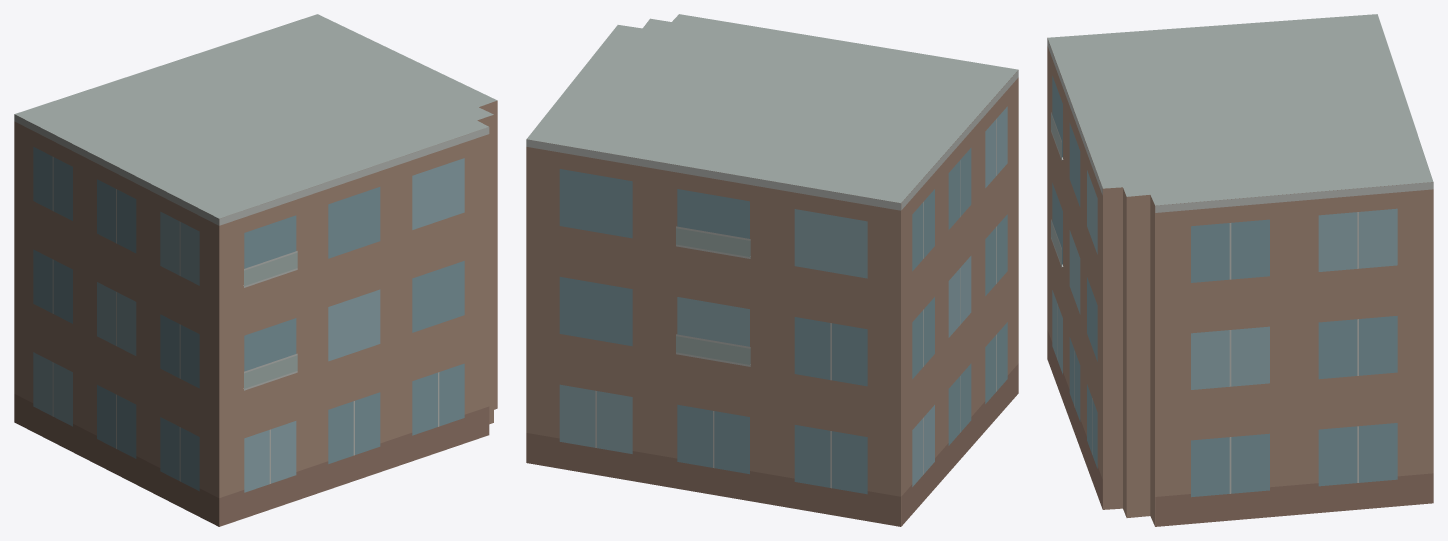
File: survey-upis-32863866.glb
3 renders of one model, left to right at view 1: azimuth 30°, elevation 25°; view 2: azimuth 150°, elevation 25°; view 3: azimuth 270°, elevation 25°, orthographic. The views are drawn at different scales.
Parts seen in each view (by area): view 1: survey-upis-32863866.tmp; view 2: survey-upis-32863866.tmp; view 3: survey-upis-32863866.tmp.
Boxes of the visible parts, x1,y1,x2,y2 form: survey-upis-32863866.tmp: (14,14,497,526); survey-upis-32863866.tmp: (526,14,1018,526); survey-upis-32863866.tmp: (1047,14,1433,526).
Bounding box in the file's own units: 13.43 × 10.5 × 11.44.
